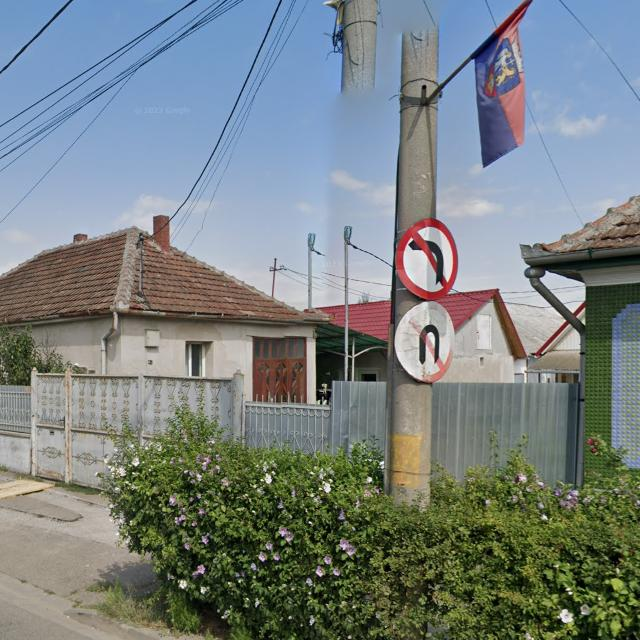forb_left: (396, 218, 458, 300)
forb_u_turn: (394, 301, 454, 383)
